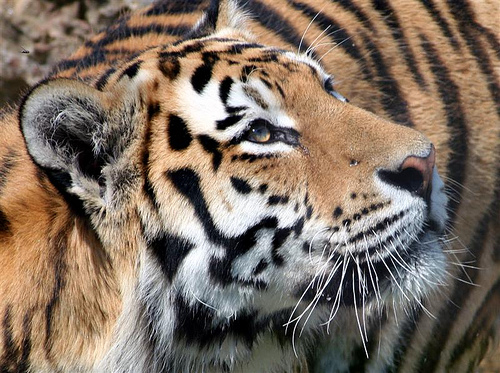Tigre: (42, 35, 453, 327)
